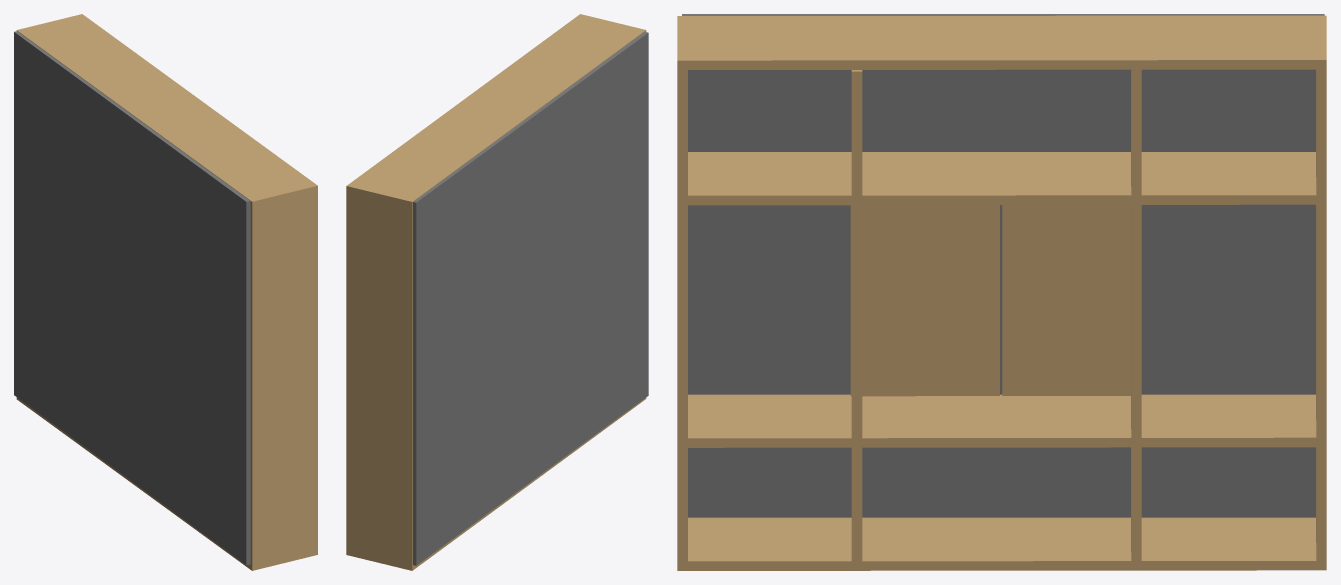
The model's file is shelf.obj.
3 views of the same model, side by side, from view 1: azimuth 30°, elevation 25°; view 2: azimuth 150°, elevation 25°; view 3: azimuth 270°, elevation 25° (orthographic). The views are drawn at different scales.
Parts seen in each view (by area): view 1: Rectangle48; view 2: Rectangle48; view 3: Rectangle48.
Boxes of the visible parts, box(x1,y1,x2,y2) form: Rectangle48: box(14, 14, 317, 570); Rectangle48: box(346, 14, 648, 570); Rectangle48: box(677, 14, 1326, 570).
Size of the model in its own units: 42.47 by 214 by 247.
